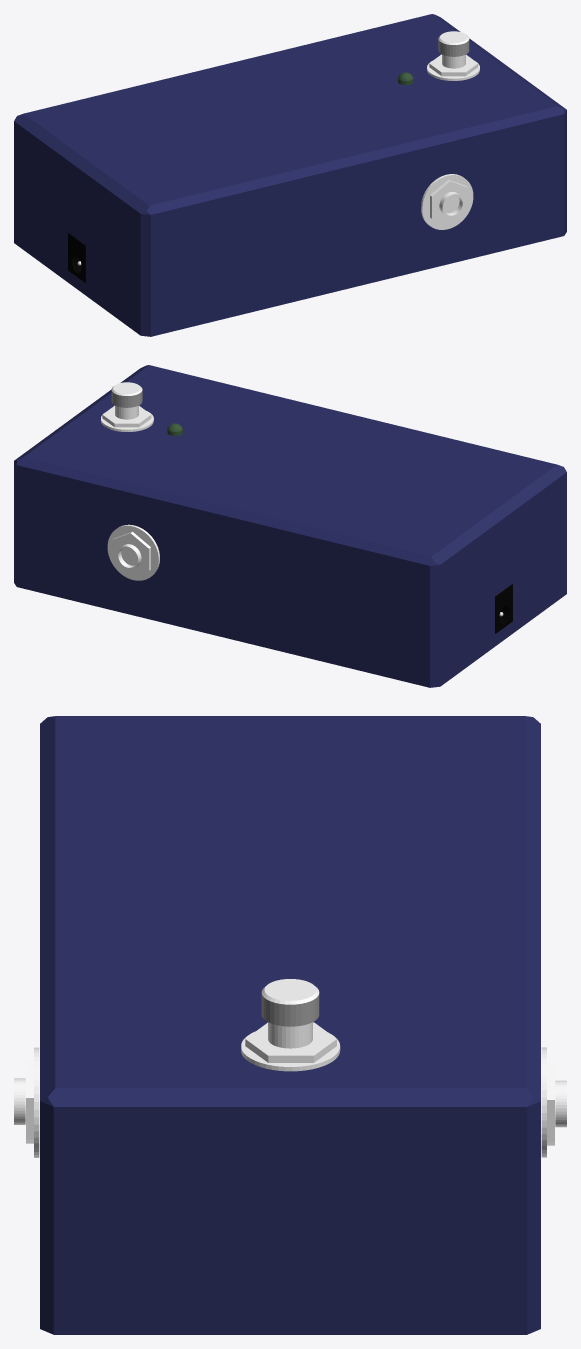
Rendered from pedal.gltf.
3 views of the same model, one above another, from view 1: azimuth 30°, elevation 25°; view 2: azimuth 150°, elevation 25°; view 3: azimuth 270°, elevation 25° (orthographic). The views are drawn at different scales.
Visible parts, largest first — view 1: Box, Nut, Base, Head, Nut.003, Plane; view 2: Box, Nut.001, Base.001, Head, Nut.003, Plane; view 3: Box, Head, Nut.003, Base.003, Cylinder.
Part boxes in pixels (left/top/right/bottom): Box: left=14, top=14, right=566, bottom=336; Nut: left=430, top=179, right=468, bottom=225; Base: left=421, top=174, right=473, bottom=229; Head: left=438, top=31, right=469, bottom=56; Nut.003: left=429, top=54, right=478, bottom=76; Plane: left=68, top=233, right=85, bottom=282; Box: left=14, top=365, right=566, bottom=687; Nut.001: left=112, top=531, right=150, bottom=577; Base.001: left=107, top=524, right=159, bottom=580; Head: left=111, top=382, right=142, bottom=407; Nut.003: left=102, top=405, right=151, bottom=427; Plane: left=495, top=584, right=512, bottom=633; Box: left=40, top=716, right=540, bottom=1334; Head: left=261, top=979, right=319, bottom=1026; Nut.003: left=245, top=1022, right=336, bottom=1062; Base.003: left=241, top=1031, right=340, bottom=1071; Cylinder: left=268, top=1022, right=312, bottom=1048.
Size of the model in its own units: 8.83 by 3.17 by 5.3.
